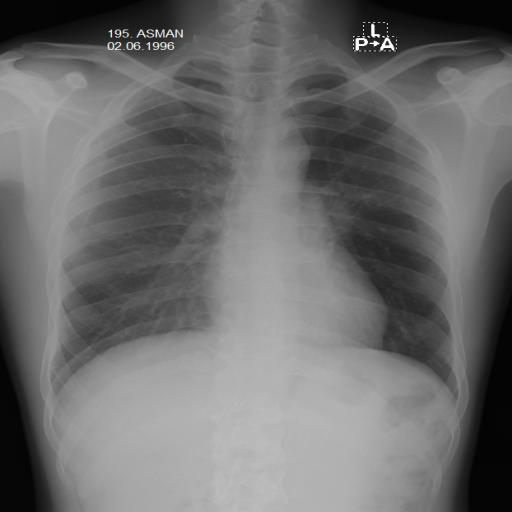normal: (34, 33, 472, 420)
